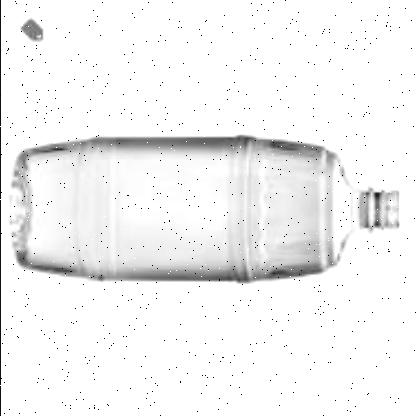Plastic Bottle: (10, 137, 398, 283)
